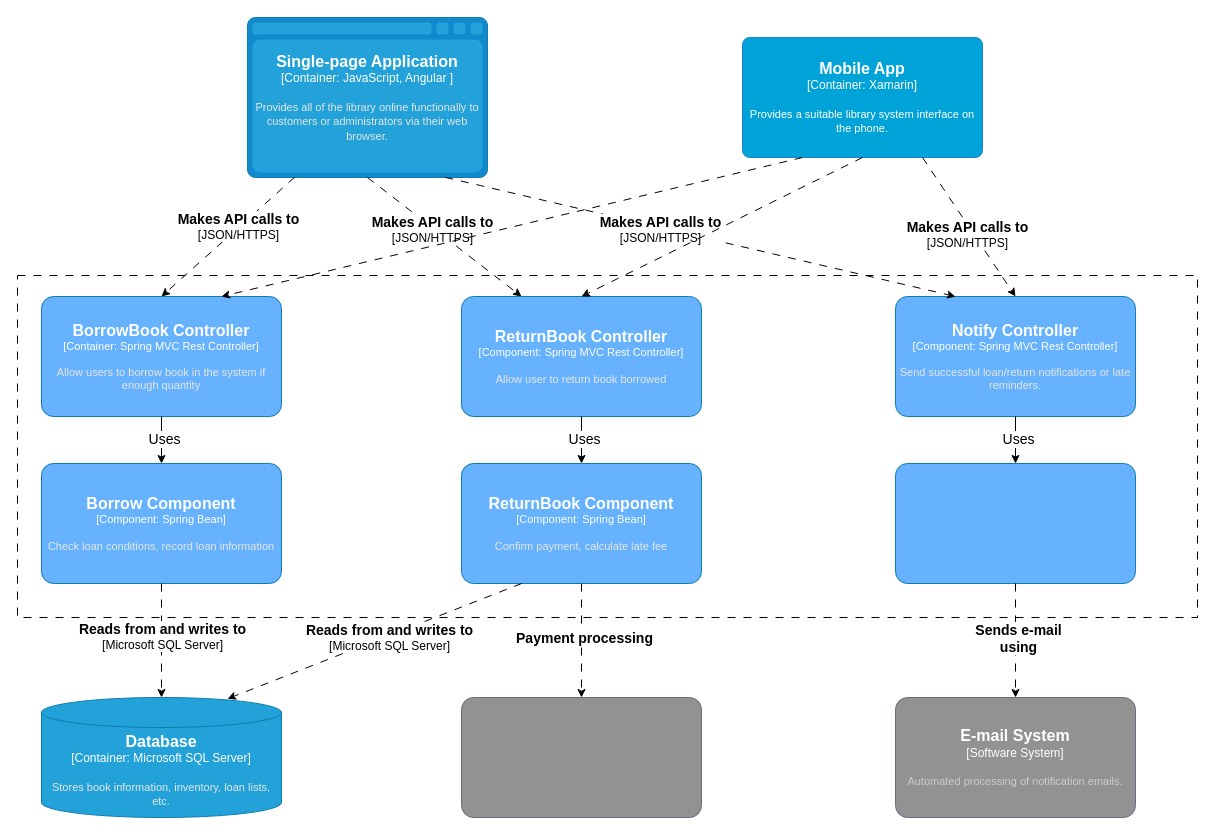
The diagram is 1215 pixels wide and 835 high, and some of its shapes have lost their labels. Here are the shapes that lost their labels. From the top down, the box of each, then its label:
(894, 462, 1136, 584): Notify Component [Component: Spring Bean] Send emails to users.
(460, 696, 702, 818): Payment Gateway [Software System] Process membership fees or late fees.
